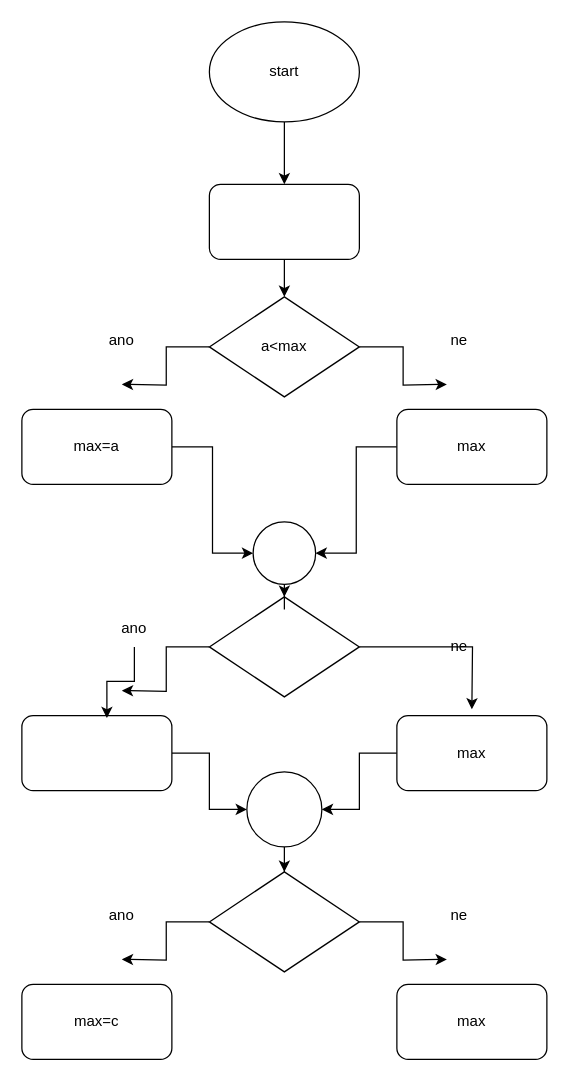
Image size: 569x1081. Some labels were removed from this diagram. Here are the shapes that lost their labels. From the top down, the centre of each, then its label:
the point at 283,221: a,b,c
the point at 283,646: b<max
the point at 96,752: max=b
the point at 283,921: c<max
